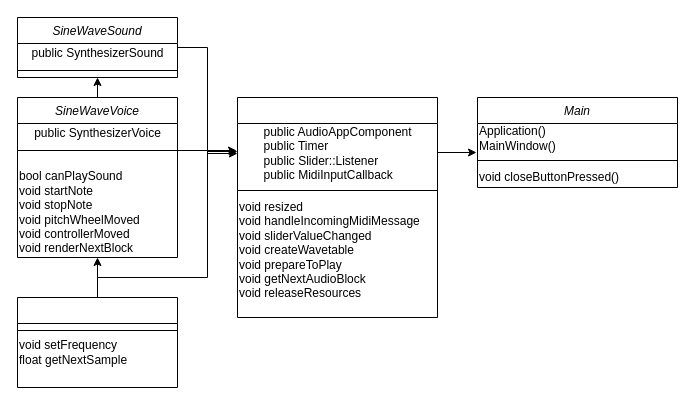
This 695x405 diagram has some shape labels left out. Here are the shapes that lost their labels. From the top down, the box of each, then its label:
(236, 96, 438, 318): MainComponent
(16, 296, 178, 388): WavetableOscillator
